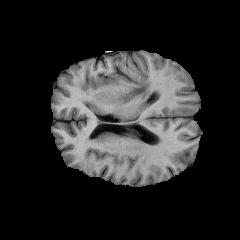glioma: (111, 81, 153, 117)
